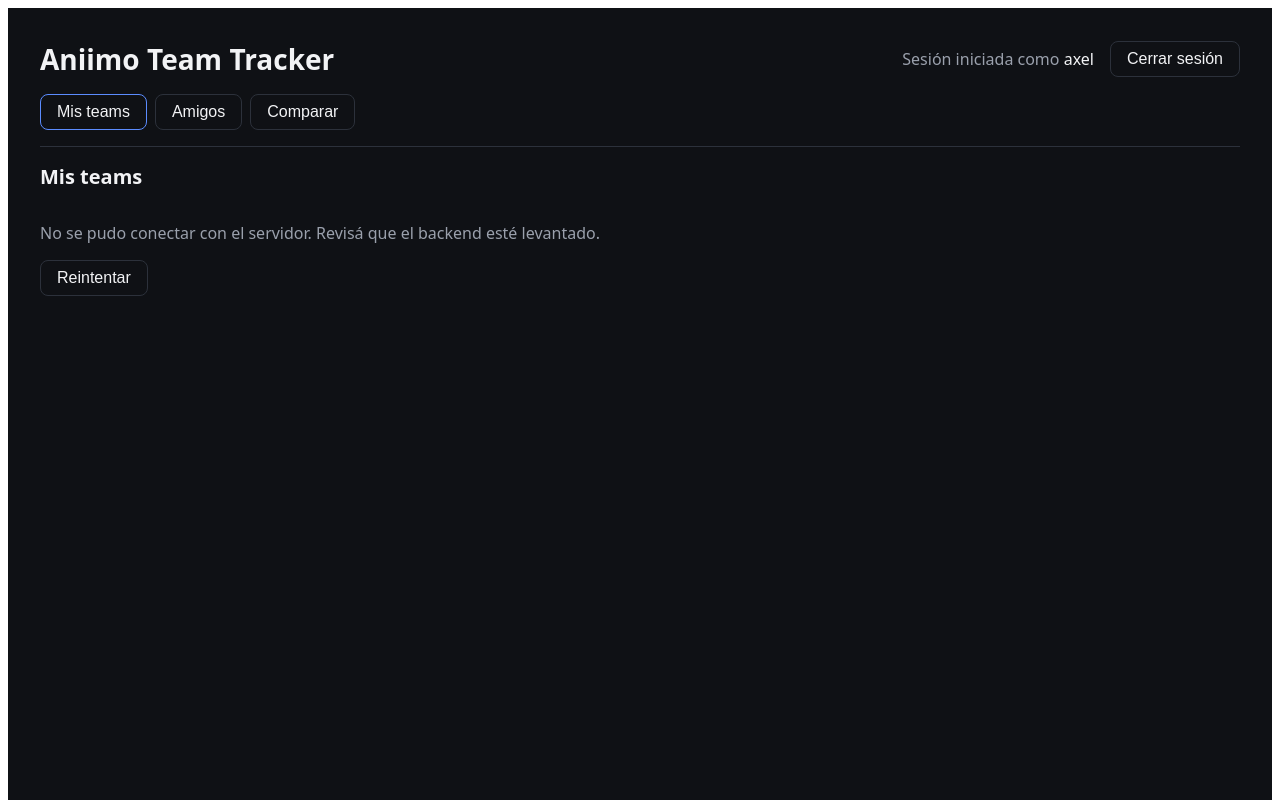
it: listado de teams › muestra el error de carga y permite reintentar
Check: the text "No se pudo conectar con el servidor. Revisá que el backend esté levantado." is shown, box [40,222,600,244]
Click the button "Reintentar" at (94, 278), box [40,260,148,296]
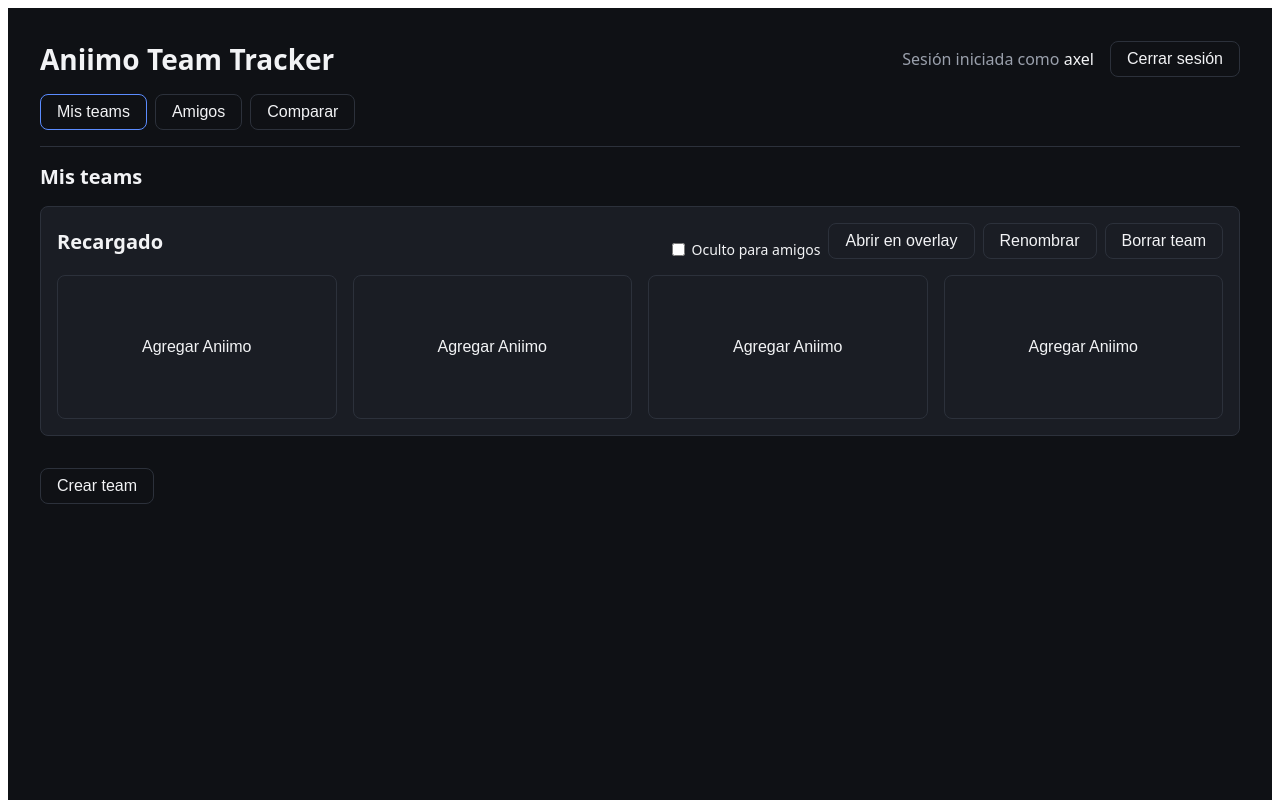
Check: the heading "Recargado" is shown, box [57,228,163,254]
